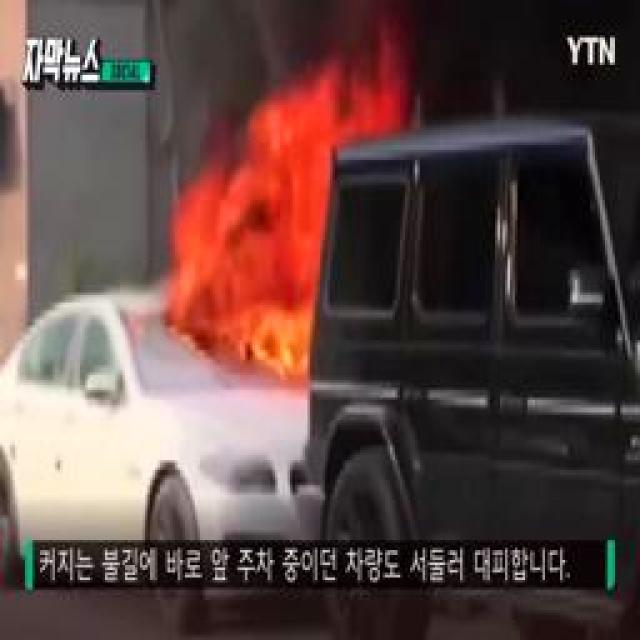Fire: (185, 82, 338, 374)
